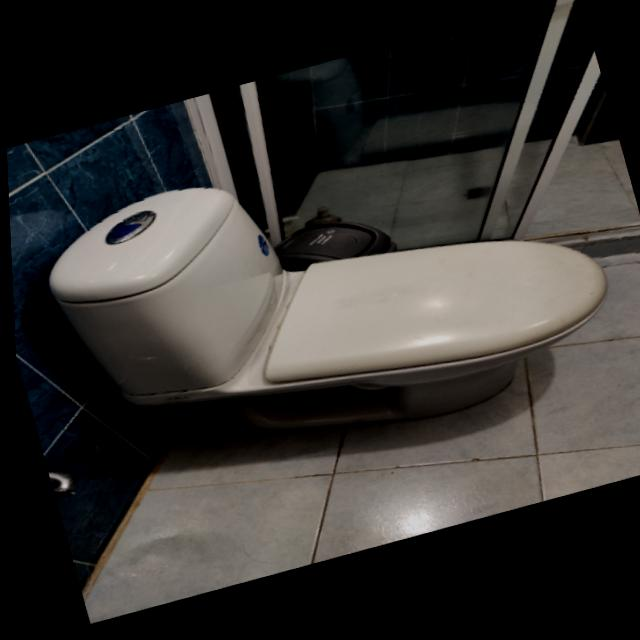toilet: (26, 87, 632, 507)
